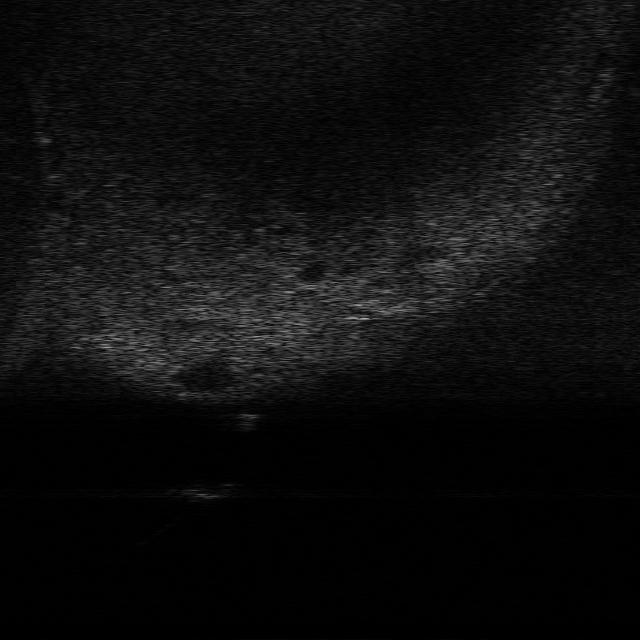ball: (234, 408, 262, 434)
cube: (175, 484, 234, 501)
